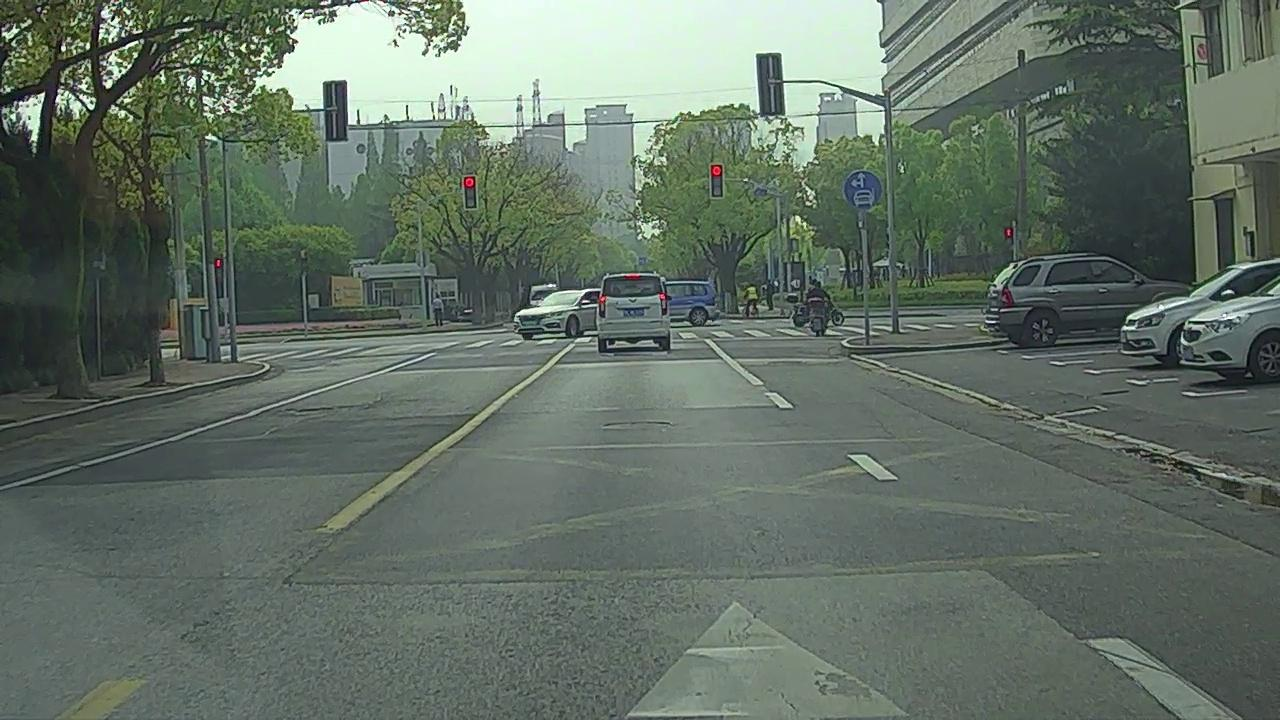traffic_light: (463, 177, 476, 208), (711, 165, 723, 197)
